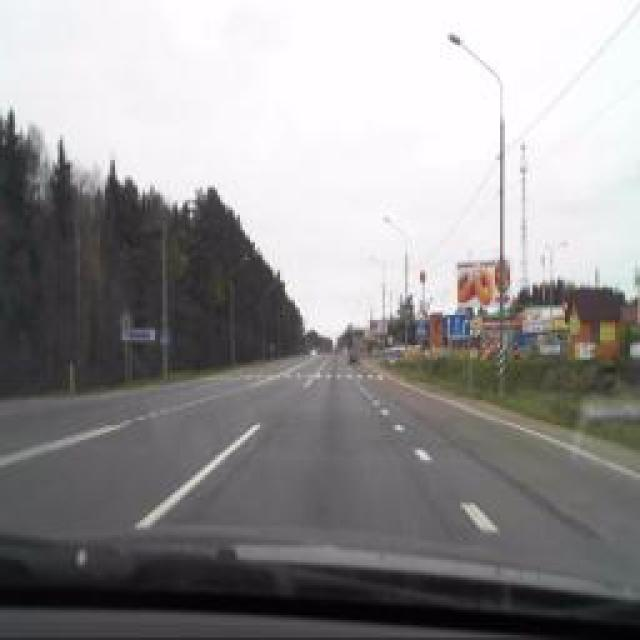sign: (445, 314, 470, 336), (416, 320, 426, 338)
